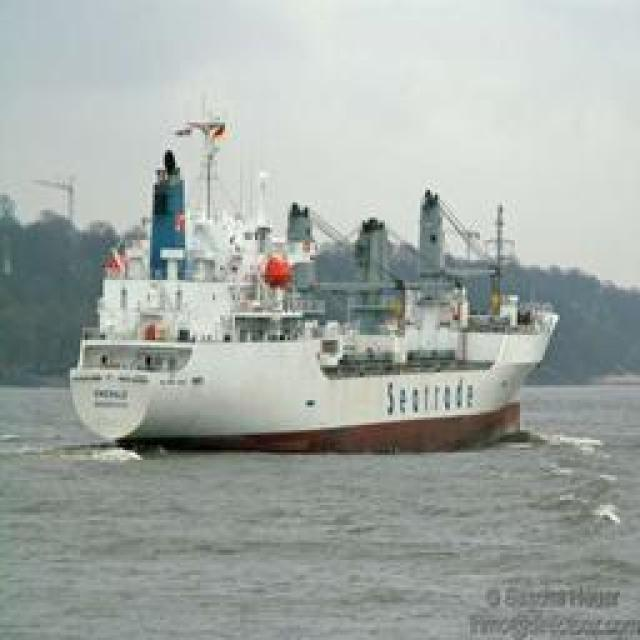CIV_Ship: (66, 116, 554, 449)
